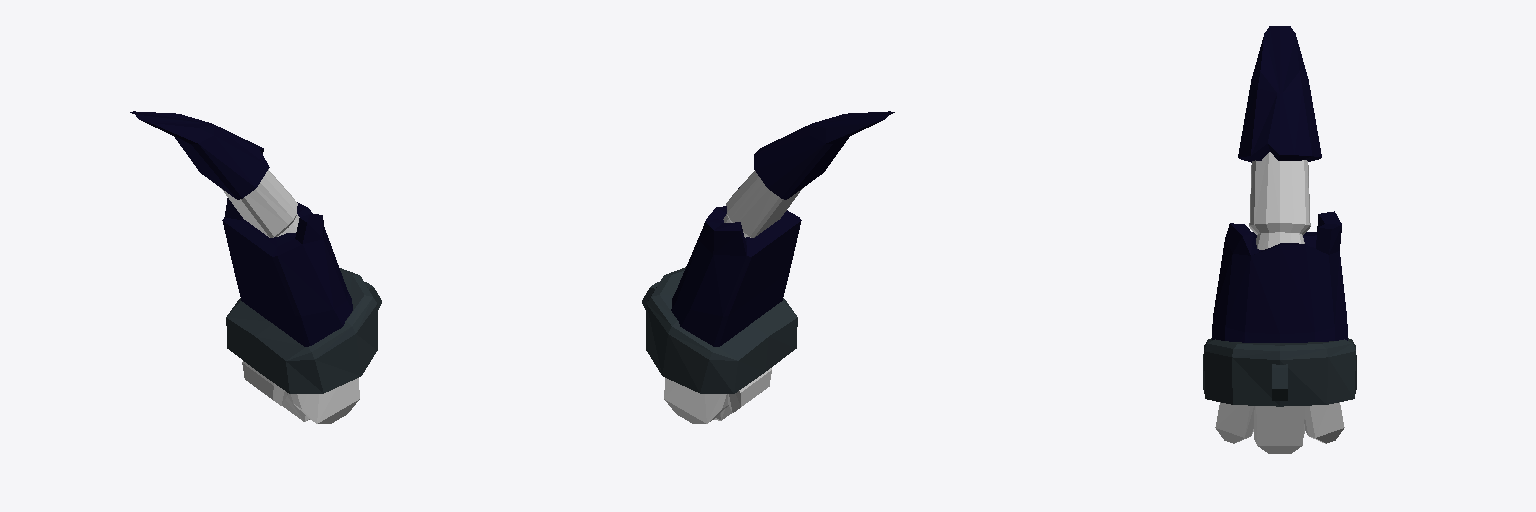
Rendered from character_skeleton_mage_armLeft.obj.
The picture shows the model from 3 angles: view 1: azimuth 30°, elevation 25°; view 2: azimuth 150°, elevation 25°; view 3: azimuth 270°, elevation 25°; orthographic projection.
Parts seen in each view (by area): view 1: character_skeleton_mage_armLeft_Cube.7683; view 2: character_skeleton_mage_armLeft_Cube.7683; view 3: character_skeleton_mage_armLeft_Cube.7683.
Part boxes in pixels (left/top/right/bottom): character_skeleton_mage_armLeft_Cube.7683: left=130, top=111, right=381, bottom=423; character_skeleton_mage_armLeft_Cube.7683: left=642, top=111, right=894, bottom=423; character_skeleton_mage_armLeft_Cube.7683: left=1203, top=26, right=1356, bottom=453.
Bounding box in the file's own units: 0.4436 × 0.5915 × 0.2415.